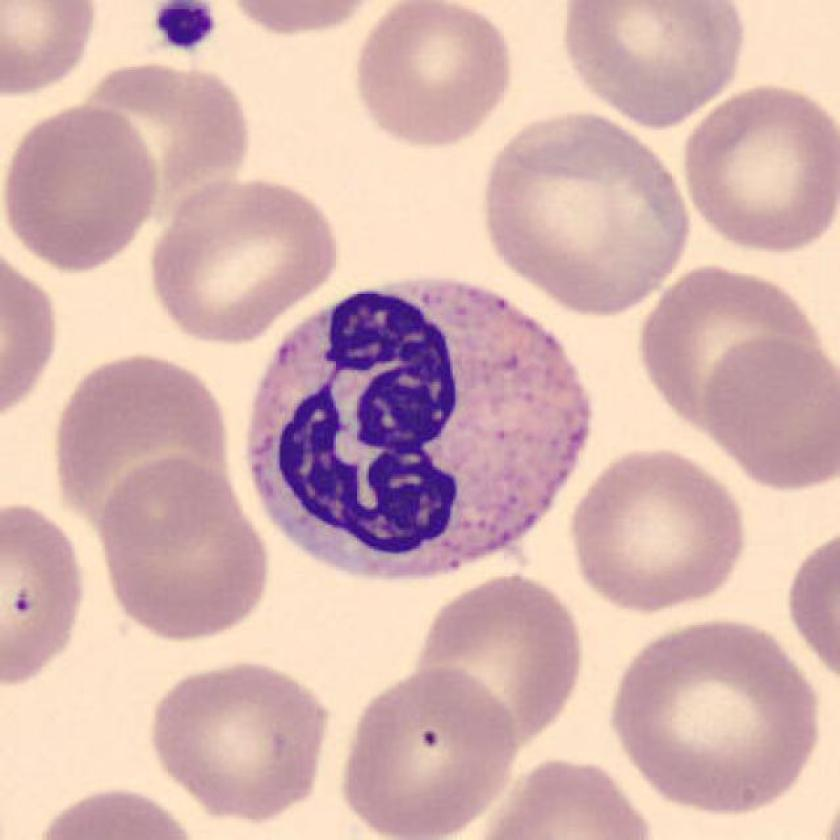neutrophil: (244, 278, 589, 574)
